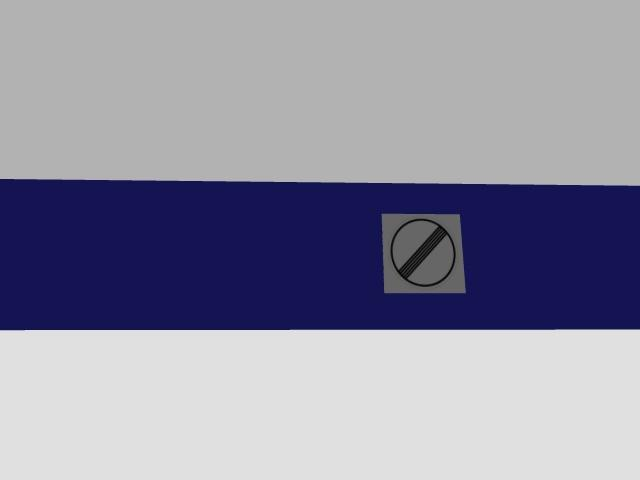fastsign: (382, 214, 465, 293)
